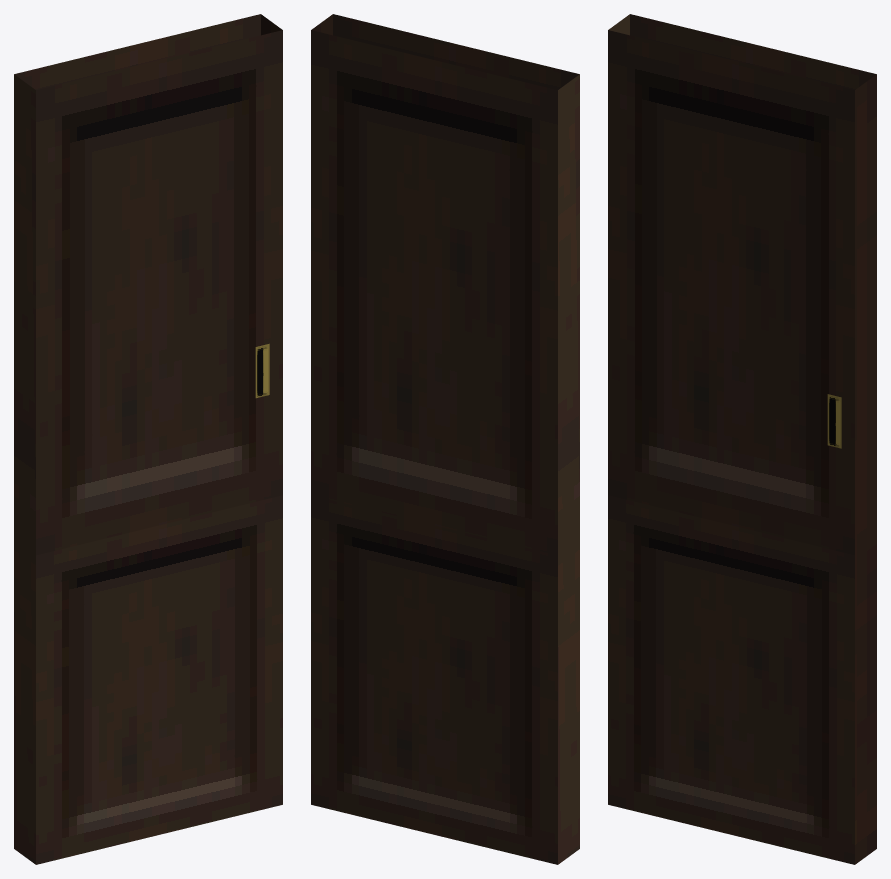
File: primary_113.glb
The picture shows the model from 3 angles, left to right: view 1: azimuth 30°, elevation 25°; view 2: azimuth 150°, elevation 25°; view 3: azimuth 330°, elevation 25°; orthographic projection.
Parts seen in each view (by area): view 1: Object; view 2: Object; view 3: Object.
Boxes of the visible parts, x1,y1,x2,y2 form: Object: (14,14,282,864); Object: (311,14,579,864); Object: (608,14,876,864).
Size of the model in its own units: 0.979 by 2.94 by 0.1506.
Materials: 7 (7 with a texture image).
